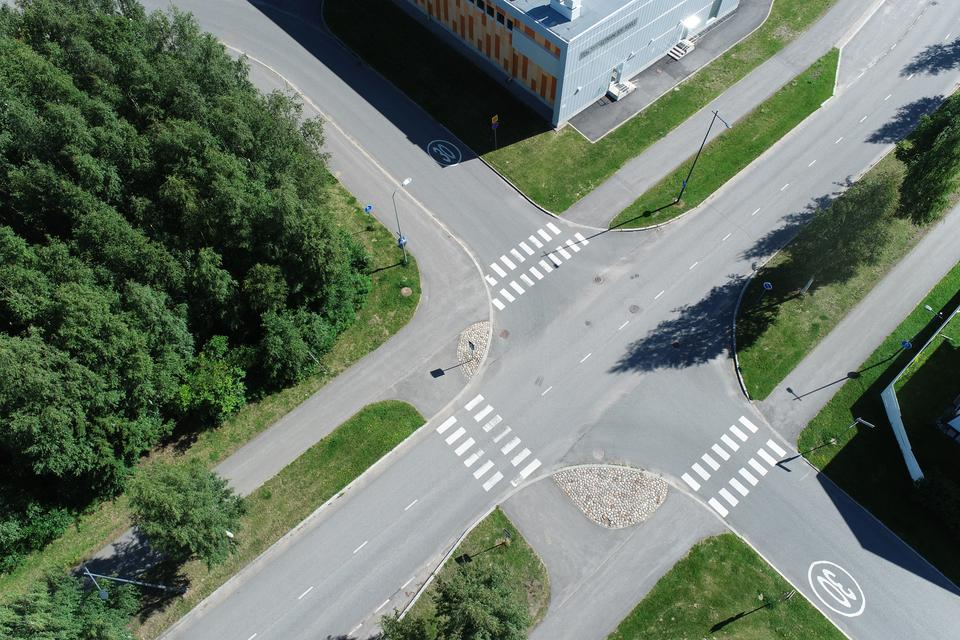intersection: (302, 174, 854, 599)
